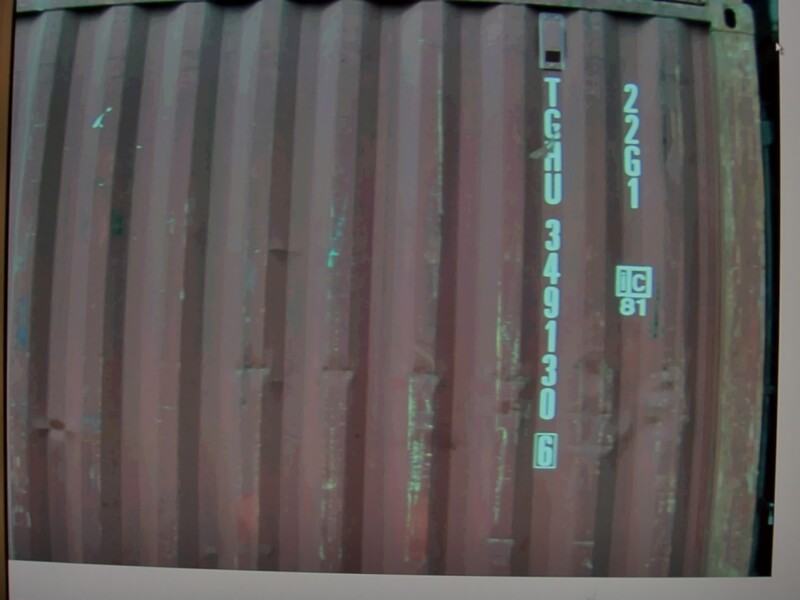container_no_door: (53, 53, 608, 492)
